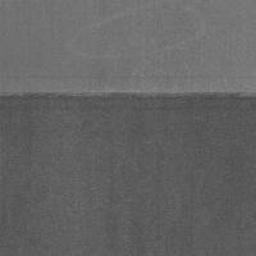Welding line: (0, 91, 256, 101)
